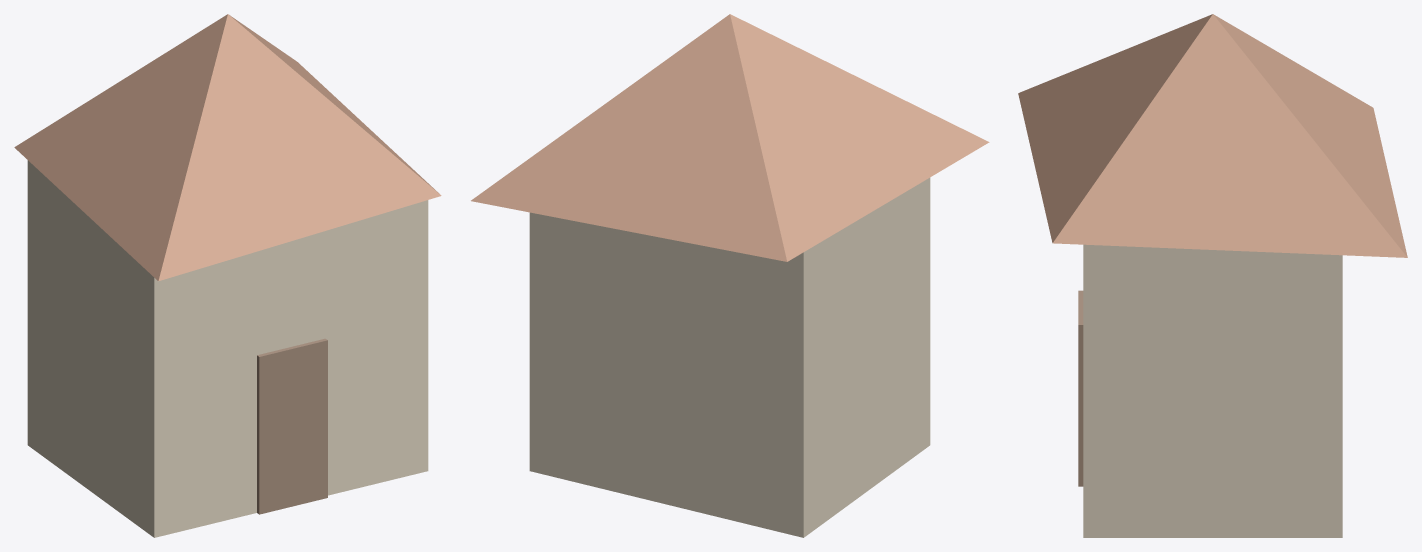
Rendered from cottage.glb.
3 renders of one model, left to right at view 1: azimuth 30°, elevation 25°; view 2: azimuth 150°, elevation 25°; view 3: azimuth 270°, elevation 25°, orthographic. The views are drawn at different scales.
Visible parts, largest first — view 1: walls, roof, door; view 2: walls, roof; view 3: walls, roof, door.
Part boxes in pixels (left/top/right/bottom): walls: left=27, top=160, right=428, bottom=537; roof: left=14, top=14, right=441, bottom=281; door: left=257, top=338, right=327, bottom=514; walls: left=529, top=177, right=930, bottom=537; roof: left=471, top=14, right=989, bottom=261; walls: left=1083, top=244, right=1342, bottom=537; roof: left=1018, top=14, right=1407, bottom=257; door: left=1078, top=290, right=1083, bottom=486.
Bounding box in the file's own units: 2.4 × 3.1 × 2.4.
